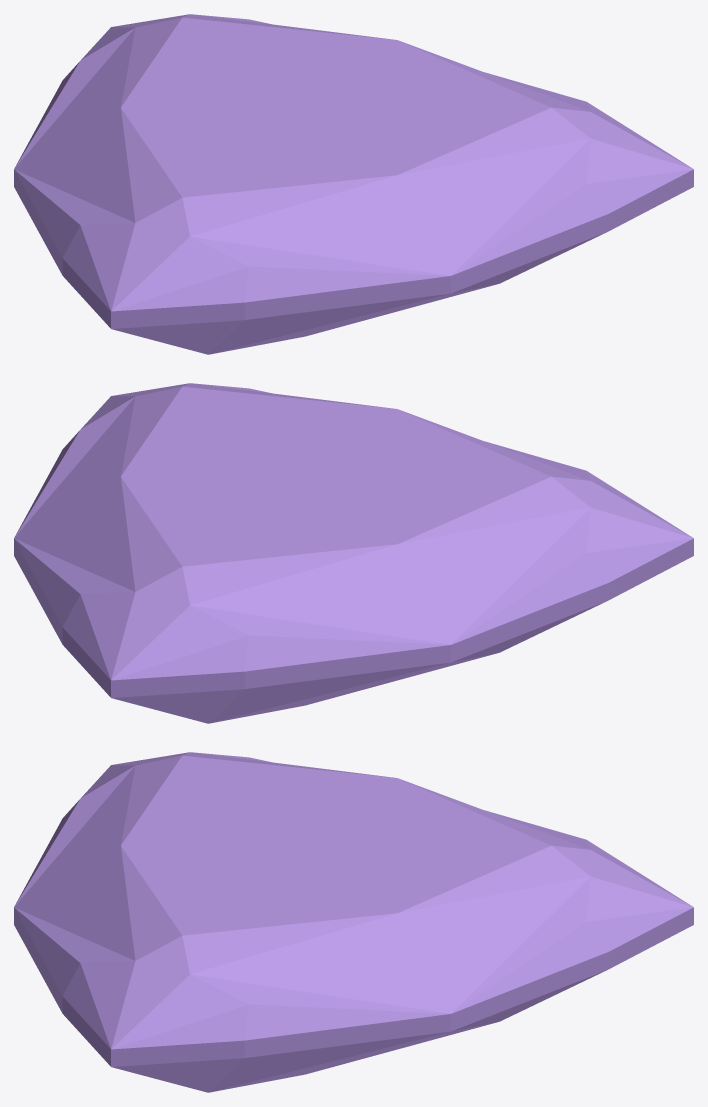
File: Trillion.fbx
3 renders of one model, top to bottom at view 1: azimuth 30°, elevation 25°; view 2: azimuth 150°, elevation 25°; view 3: azimuth 270°, elevation 25°, orthographic.
Visible parts, largest first — view 1: Trillion; view 2: Trillion; view 3: Trillion.
Part boxes in pixels (x1=…): Trillion: x1=14, y1=14, x2=693, y2=354; Trillion: x1=14, y1=383, x2=693, y2=723; Trillion: x1=14, y1=752, x2=693, y2=1092.
Bounding box in the file's own units: 1.73 × 0.65 × 1.75.
